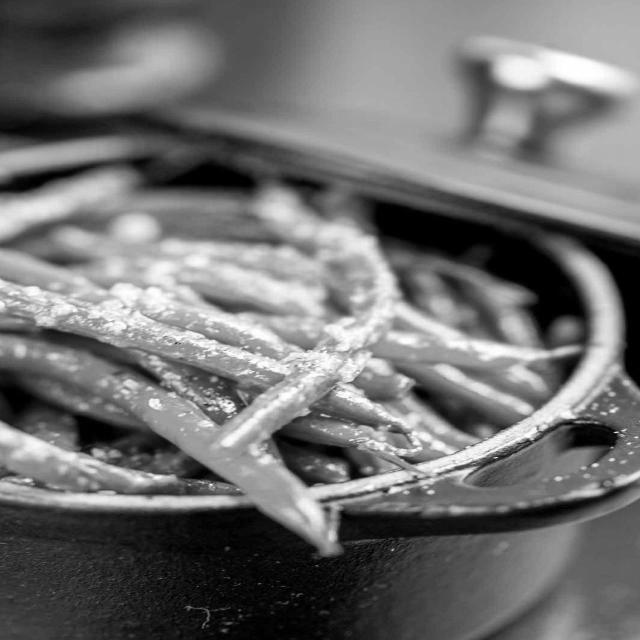Beans: (0, 159, 599, 512)
